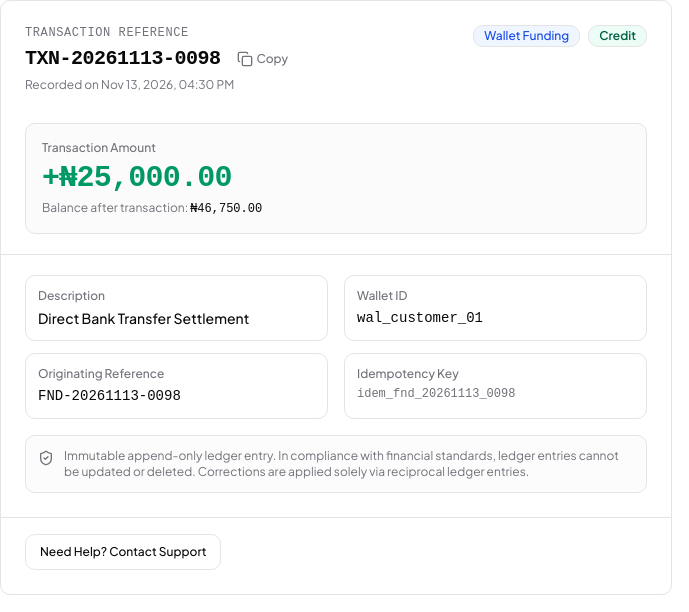
Test: TransactionDetailCard (F15.2) › copies transaction reference to clipboard on copy button click
This screenshot has width=689, height=612.
Step 1. Click the button with aria-label "copy transaction reference" → [262, 59], box top-left (228, 45), bottom-right (296, 73)
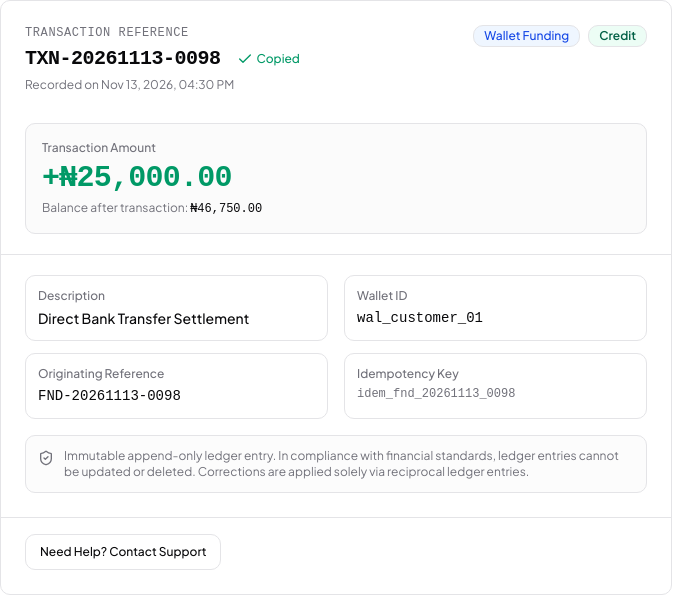
Now the text "Copied" is shown, box top-left (236, 51), bottom-right (300, 67)
